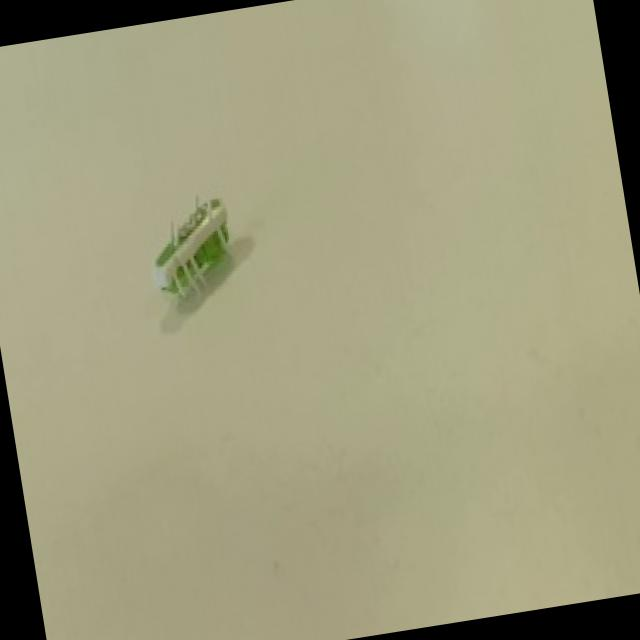4_NanoBug_Blanco: (119, 179, 288, 353)
